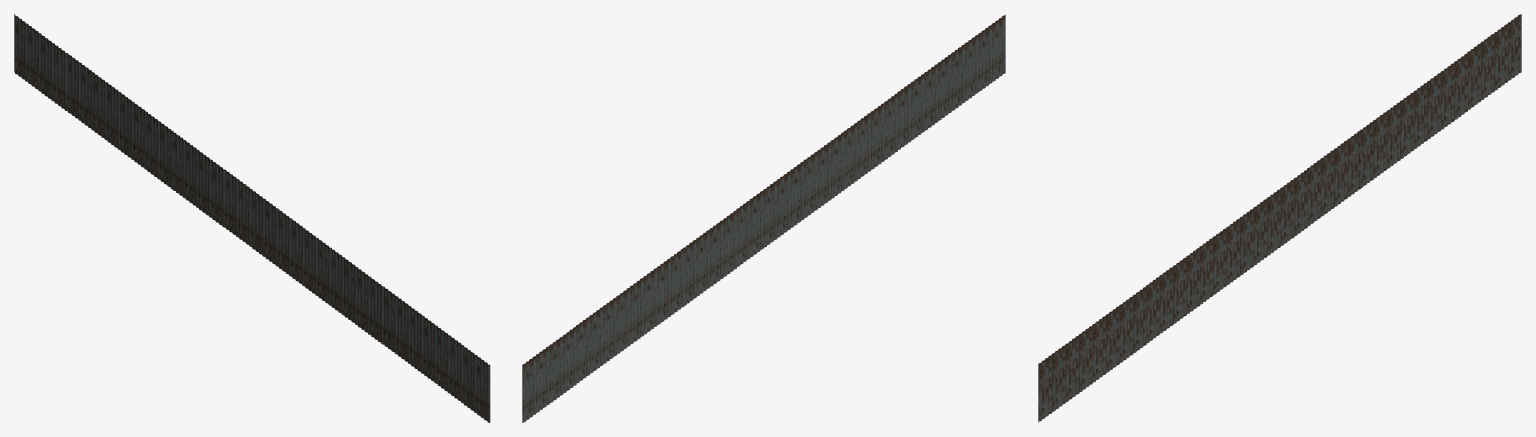
The model's file is old_metal.glb.
3 renders of one model, left to right at view 1: azimuth 30°, elevation 25°; view 2: azimuth 150°, elevation 25°; view 3: azimuth 330°, elevation 25°, orthographic.
Visible parts, largest first — view 1: root; view 2: root; view 3: root.
Part boxes in pixels (x1,y1,x2,y2): root: (14,14,490,422); root: (522,14,1005,422); root: (1038,14,1521,422).
Bounding box in the file's own units: 23.02 × 241 × 3612.
3 materials, 1 textured.
